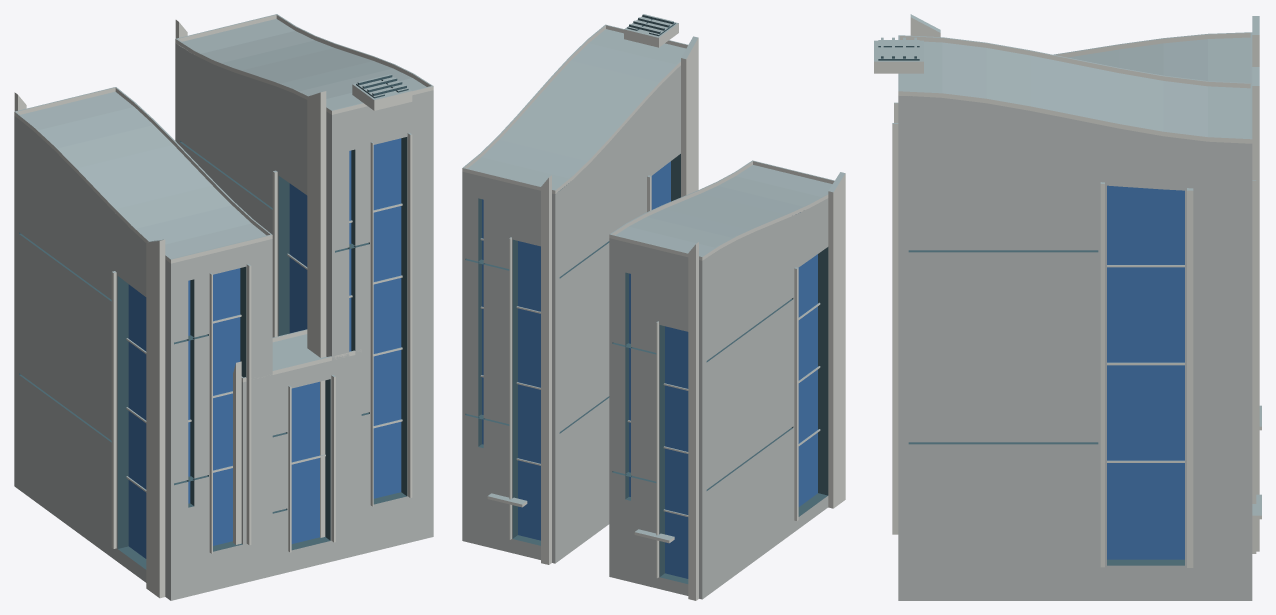
File: 00_Atrium.obj
The picture shows the model from 3 angles, left to right: view 1: azimuth 30°, elevation 25°; view 2: azimuth 150°, elevation 25°; view 3: azimuth 270°, elevation 25°; orthographic projection. The views are drawn at different scales.
Size of the model in its own units: 0.6118 by 1 by 0.666.
